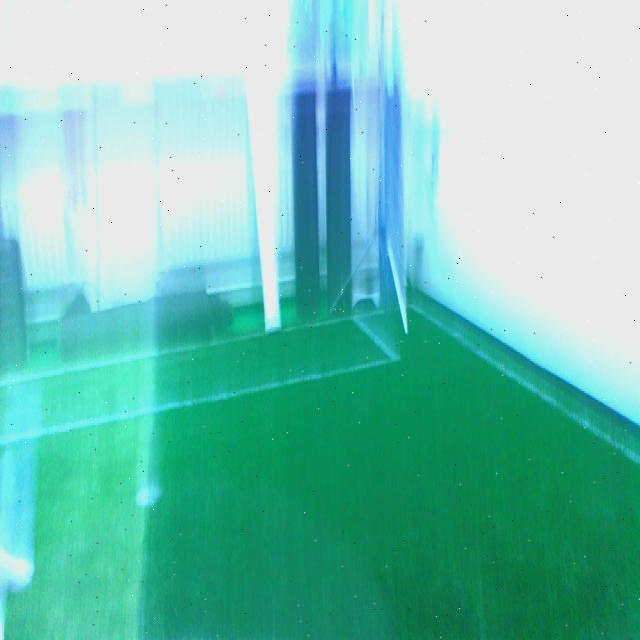goalpost: (266, 237, 278, 327)
